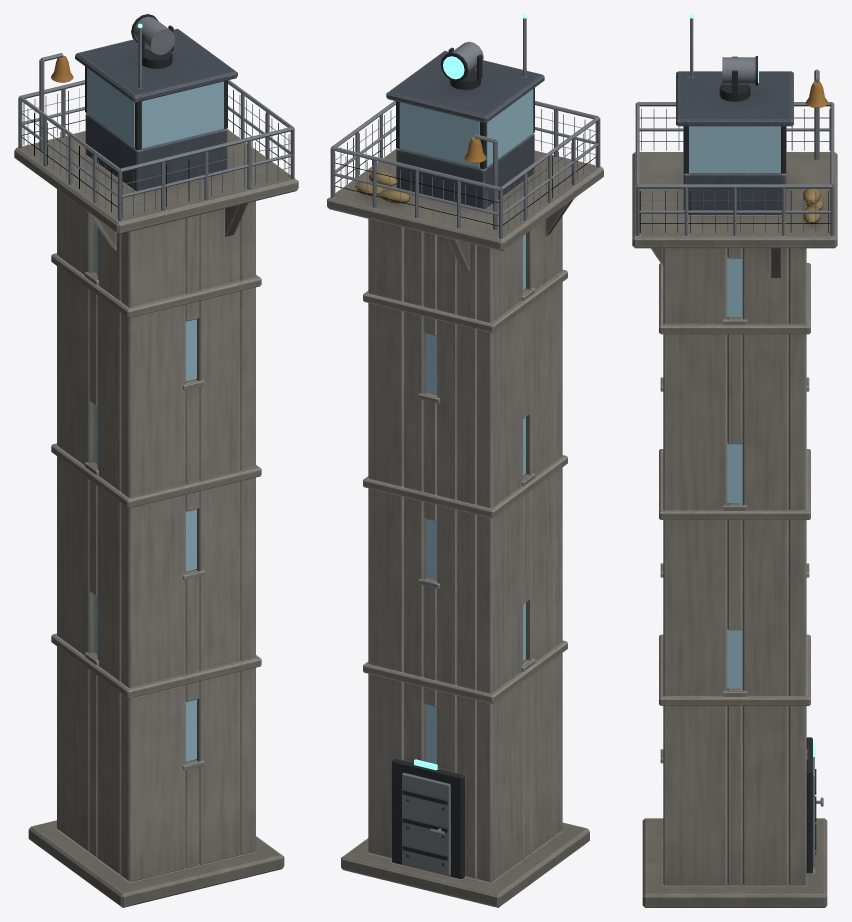
Rendered from torre_vigilancia.fbx.
3 views of the same model, side by side, from view 1: azimuth 30°, elevation 25°; view 2: azimuth 150°, elevation 25°; view 3: azimuth 270°, elevation 25° (orthographic). The views are drawn at different scales.
Visible parts, largest first — view 1: torre_vigilancia, torre_vigilancia_cristal, torre_vigilancia_foco; view 2: torre_vigilancia, torre_vigilancia_cristal, torre_vigilancia_puerta, torre_vigilancia_foco; view 3: torre_vigilancia, torre_vigilancia_cristal, torre_vigilancia_foco, torre_vigilancia_puerta.
Part boxes in pixels (box(x1,y1,x2,y2)): torre_vigilancia: box(14, 28, 298, 907); torre_vigilancia_cristal: box(87, 68, 223, 761); torre_vigilancia_foco: box(131, 14, 175, 68); torre_vigilancia: box(327, 18, 603, 907); torre_vigilancia_cristal: box(399, 89, 533, 764); torre_vigilancia_puerta: box(402, 772, 450, 876); torre_vigilancia_foco: box(440, 41, 483, 89); torre_vigilancia: box(632, 18, 837, 907); torre_vigilancia_cristal: box(683, 126, 786, 688); torre_vigilancia_foco: box(719, 56, 757, 101); torre_vigilancia_puerta: box(813, 757, 823, 867).
Bounding box in the file's own units: 4 × 18.03 × 4.
Materials: 4 (1 with a texture image).
